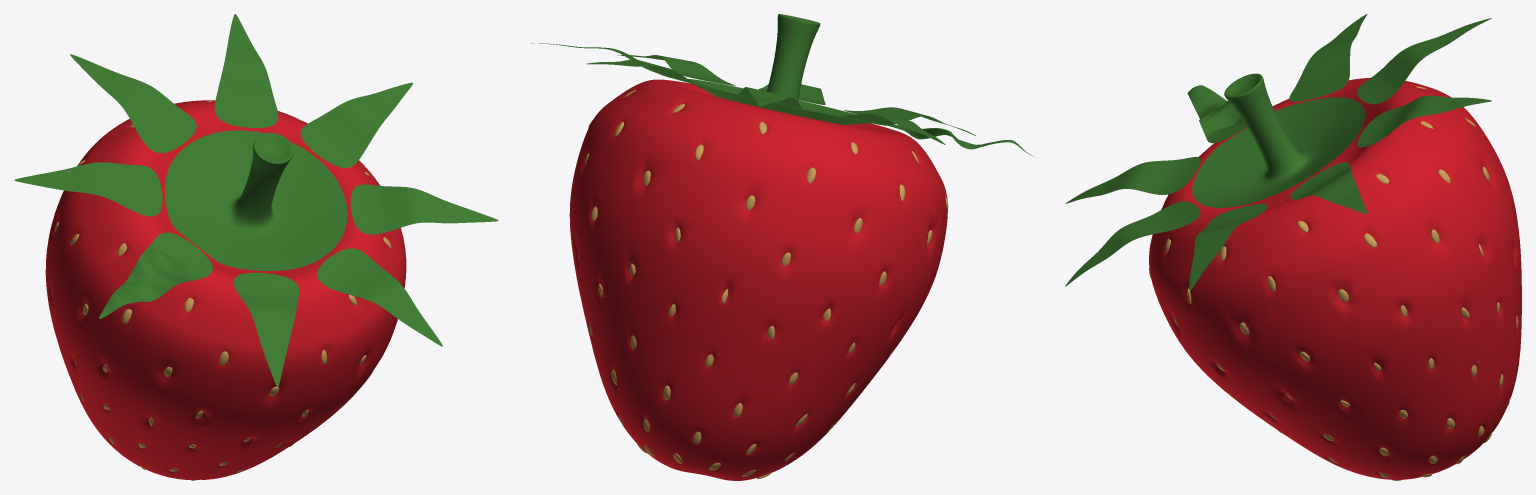
File: strawberry-light-draco.glb
3 views of the same model, side by side, from view 1: azimuth 30°, elevation 25°; view 2: azimuth 150°, elevation 25°; view 3: azimuth 270°, elevation 25° (orthographic). The views are drawn at different scales.
Visible parts, largest first — view 1: Sphere, Sphere.001; view 2: Sphere, Sphere.001; view 3: Sphere, Sphere.001.
Boxes of the visible parts, <box> form: Sphere: <box>14,14,498,479</box>; Sphere.001: <box>51,101,401,480</box>; Sphere: <box>531,14,1033,480</box>; Sphere.001: <box>578,90,948,478</box>; Sphere: <box>1065,14,1521,479</box>; Sphere.001: <box>1149,86,1518,480</box>.
Bounding box in the file's own units: 2.39 × 2.29 × 2.3.
